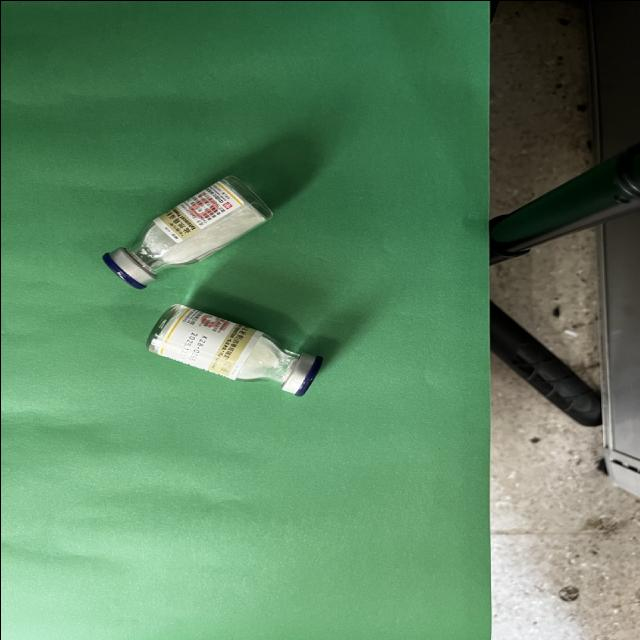Vials: (102, 175, 271, 288), (147, 304, 321, 394)
